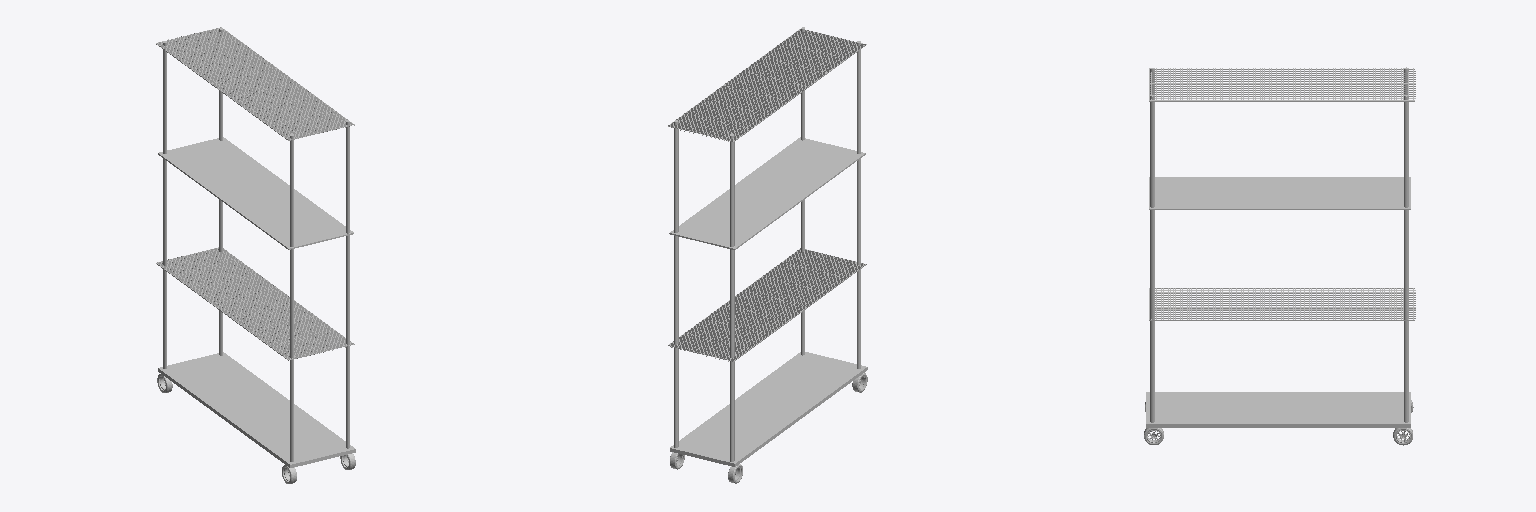
Rendered from anaquel.obj.
3 renders of one model, left to right at view 1: azimuth 30°, elevation 25°; view 2: azimuth 150°, elevation 25°; view 3: azimuth 270°, elevation 25°, orthographic.
Visible parts, largest first — view 1: anaquel_Plane.004, Cube_Cube.003, Cube_Cube.000, Plane_Plane.003, Cylinder.006_Cylinder.001, Cylinder_Cylinder.004, Cylinder.005_Cylinder.002, Cylinder.004_Cylinder.003; view 2: anaquel_Plane.004, Cube_Cube.003, Cube_Cube.000, Plane_Plane.003, Cylinder.005_Cylinder.002, Cylinder.004_Cylinder.003, Cylinder_Cylinder.004, Cylinder.006_Cylinder.001; view 3: anaquel_Plane.004, Plane_Plane.003, Cube_Cube.003, Cube_Cube.000, Cylinder.006_Cylinder.001, Cylinder.004_Cylinder.003.
Boxes of the visible parts, x1,y1,x2,y2 form: anaquel_Plane.004: [158, 352, 355, 467]; Cube_Cube.003: [156, 27, 354, 140]; Cube_Cube.000: [156, 247, 354, 360]; Plane_Plane.003: [158, 137, 353, 249]; Cylinder.006_Cylinder.001: [346, 120, 349, 448]; Cylinder_Cylinder.004: [290, 134, 293, 461]; Cylinder.005_Cylinder.002: [163, 41, 166, 368]; Cylinder.004_Cylinder.003: [219, 28, 222, 355]; anaquel_Plane.004: [670, 352, 867, 466]; Cube_Cube.003: [668, 29, 866, 142]; Cube_Cube.000: [668, 248, 866, 361]; Plane_Plane.003: [669, 137, 865, 249]; Cylinder.005_Cylinder.002: [730, 134, 734, 461]; Cylinder.004_Cylinder.003: [674, 120, 678, 447]; Cylinder_Cylinder.004: [857, 41, 860, 368]; Cylinder.006_Cylinder.001: [801, 27, 804, 355]; anaquel_Plane.004: [1146, 392, 1410, 427]; Plane_Plane.003: [1149, 177, 1410, 209]; Cube_Cube.003: [1149, 68, 1415, 101]; Cube_Cube.000: [1149, 288, 1415, 320]; Cylinder.006_Cylinder.001: [1150, 95, 1154, 422]; Cylinder.004_Cylinder.003: [1404, 95, 1408, 422].
Bounding box in the file's own units: 1.26 × 6.34 × 4.49.